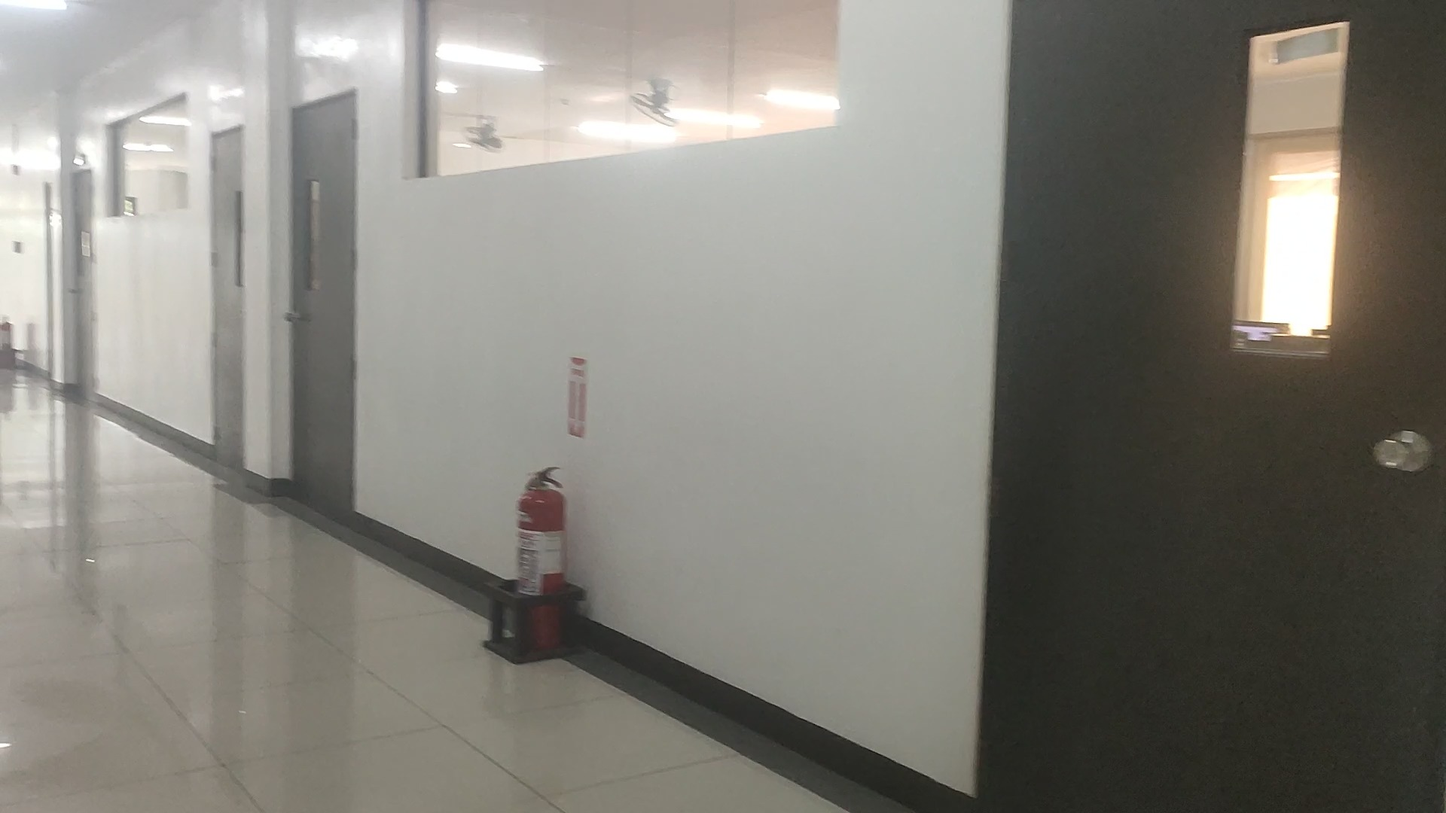door: (972, 0, 1446, 813), (282, 97, 355, 510)
